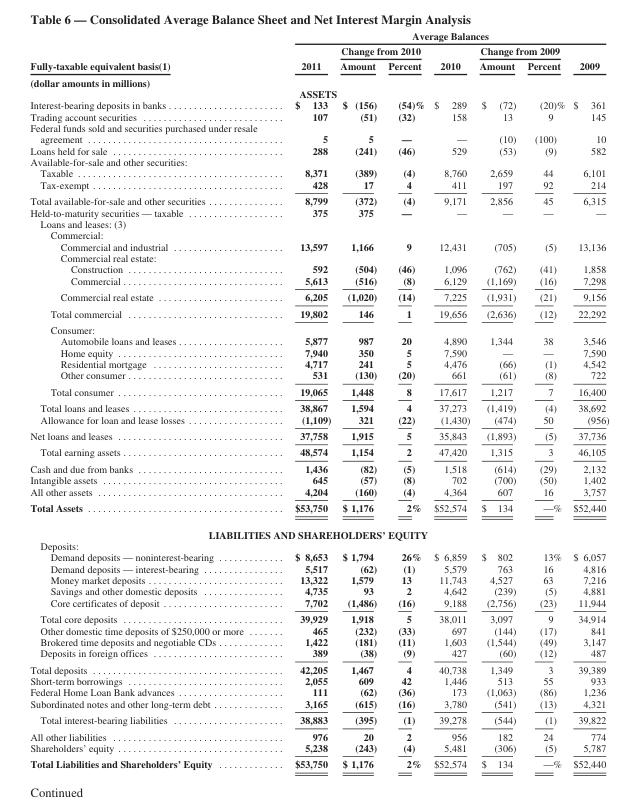table: (29, 29, 608, 769)
table column: (29, 29, 275, 769), (275, 29, 334, 769), (334, 29, 381, 769), (381, 29, 428, 769), (474, 29, 521, 769), (521, 29, 568, 769), (428, 29, 474, 769), (568, 29, 608, 769)
table column header: (29, 29, 608, 73)
table projected row header: (29, 520, 608, 539), (29, 73, 608, 87), (29, 321, 608, 335), (29, 155, 608, 167), (29, 217, 608, 229), (29, 251, 608, 263), (29, 539, 608, 551), (29, 87, 608, 98), (29, 229, 608, 240)
table row: (29, 121, 608, 144), (29, 499, 608, 520), (29, 520, 608, 539), (29, 304, 608, 321), (29, 443, 608, 460), (29, 57, 608, 73), (29, 288, 608, 304), (29, 383, 608, 399), (29, 427, 608, 443), (29, 711, 608, 727), (29, 42, 608, 57), (29, 73, 608, 87), (29, 178, 608, 192), (29, 192, 608, 206), (29, 274, 608, 288), (29, 321, 608, 335), (29, 369, 608, 383), (29, 399, 608, 413), (29, 413, 608, 427), (29, 485, 608, 499), (29, 596, 608, 610), (29, 610, 608, 624), (29, 646, 608, 660), (29, 660, 608, 674), (29, 697, 608, 711), (29, 727, 608, 741), (29, 741, 608, 755), (29, 755, 608, 769), (29, 29, 608, 42), (29, 460, 608, 473), (29, 98, 608, 110), (29, 155, 608, 167), (29, 217, 608, 229), (29, 251, 608, 263), (29, 357, 608, 369), (29, 473, 608, 485), (29, 539, 608, 551), (29, 573, 608, 585), (29, 674, 608, 686), (29, 87, 608, 98), (29, 110, 608, 121), (29, 144, 608, 155), (29, 167, 608, 178), (29, 206, 608, 217), (29, 229, 608, 240), (29, 240, 608, 251), (29, 263, 608, 274), (29, 335, 608, 346), (29, 346, 608, 357), (29, 551, 608, 562), (29, 562, 608, 573), (29, 585, 608, 596), (29, 624, 608, 635), (29, 635, 608, 646), (29, 686, 608, 697)
table spanning cell: (29, 29, 275, 73), (275, 29, 608, 42), (275, 42, 334, 73), (428, 42, 474, 73), (334, 42, 428, 57), (474, 42, 568, 57), (568, 42, 608, 73)
